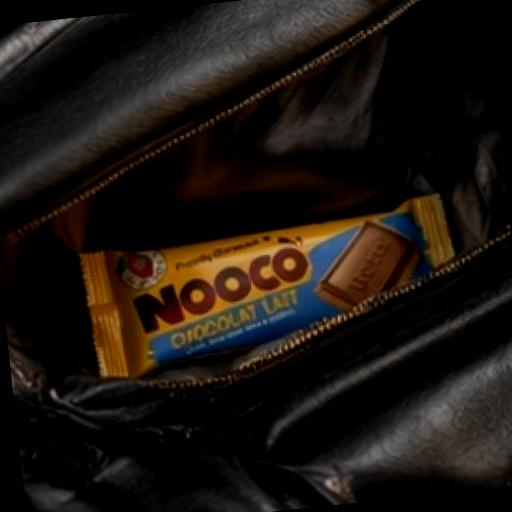nooco: (45, 156, 497, 389)
